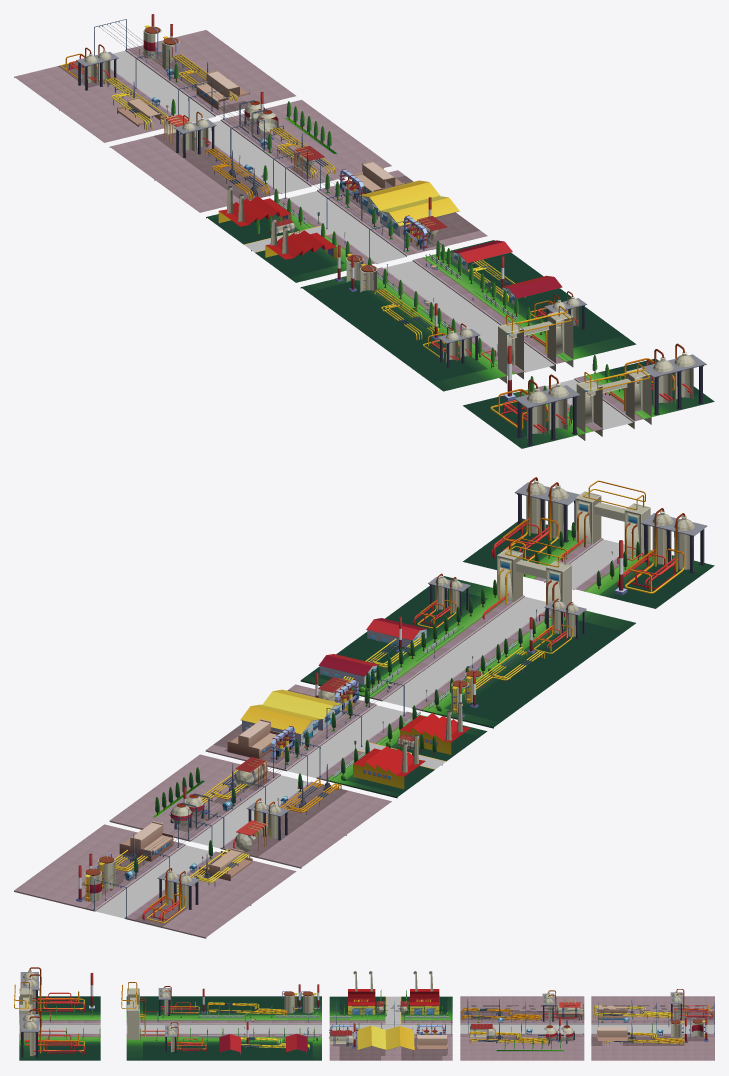
Rendered from Industrial_Zone_Updated.fbx.
The picture shows the model from 3 angles, top to bottom: view 1: azimuth 30°, elevation 25°; view 2: azimuth 150°, elevation 25°; view 3: azimuth 270°, elevation 25°; orthographic projection. The views are drawn at different scales.
Visible parts, largest first — view 1: base4, base2, Building4, Base, Buildings3, Buldings5, base3, Buildings2, Buildings, base5, Road4, Road3 (+3 smaller); view 2: base4, Building4, Buildings3, base2, Base, Buldings5, Buildings, Buildings2, base3, base5, Road4, Road3 (+3 smaller); view 3: base4, base2, Base, Building4, Buildings3, base3, base5, Buildings2, Buildings, Buldings5, Road4, Road2 (+3 smaller).
Part boxes in pixels (x1=…): base4: x1=300, y1=240, x2=636, y2=391; base2: x1=109, y1=100, x2=391, y2=212; Building4: x1=335, y1=240, x2=586, y2=383; Base: x1=14, y1=30, x2=295, y2=142; Buildings3: x1=218, y1=159, x2=459, y2=259; Buldings5: x1=490, y1=343, x2=706, y2=445; base3: x1=206, y1=170, x2=487, y2=282; Buildings2: x1=163, y1=89, x2=337, y2=200; Buildings: x1=60, y1=14, x2=249, y2=130; base5: x1=463, y1=359, x2=714, y2=448; Road4: x1=384, y1=261, x2=554, y2=372; Road3: x1=288, y1=191, x2=406, y2=263; base4: x1=300, y1=576, x2=635, y2=728; Building4: x1=318, y1=538, x2=586, y2=717; Buildings3: x1=227, y1=672, x2=470, y2=788; base2: x1=109, y1=754, x2=391, y2=868; Base: x1=14, y1=824, x2=296, y2=938; Buldings5: x1=491, y1=477, x2=707, y2=595; Buildings: x1=76, y1=817, x2=252, y2=923; Buildings2: x1=152, y1=747, x2=341, y2=851; base3: x1=205, y1=684, x2=487, y2=798; base5: x1=463, y1=518, x2=714, y2=608; Road4: x1=383, y1=597, x2=545, y2=708; Road3: x1=287, y1=705, x2=405, y2=777; base4: x1=126, y1=996, x2=321, y2=1060; base2: x1=460, y1=996, x2=584, y2=1060; Base: x1=591, y1=996, x2=714, y2=1060; Building4: x1=121, y1=982, x2=320, y2=1057; Buildings3: x1=329, y1=971, x2=451, y2=1056; base3: x1=329, y1=996, x2=452, y2=1060; base5: x1=19, y1=996, x2=100, y2=1060; Buildings2: x1=462, y1=990, x2=584, y2=1051; Buildings: x1=593, y1=989, x2=714, y2=1045; Buldings5: x1=14, y1=967, x2=100, y2=1057; Road4: x1=126, y1=1024, x2=321, y2=1033; Road2: x1=460, y1=1024, x2=584, y2=1033.
Size of the model in its own units: 1935 by 629 by 8886.
